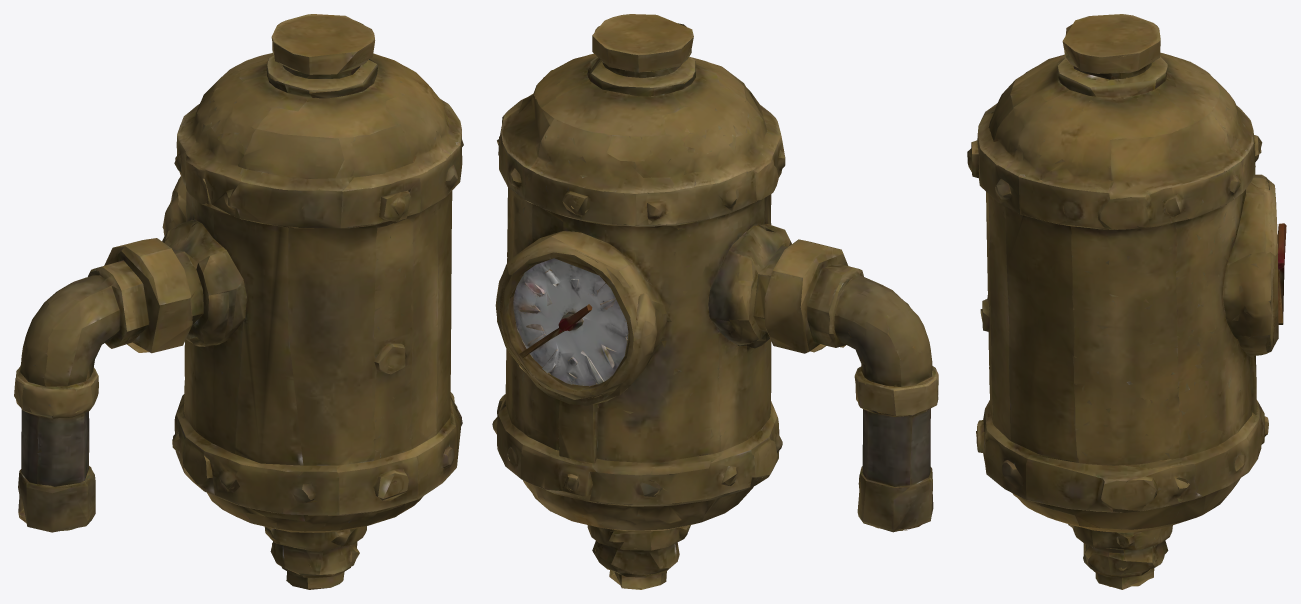
The picture shows the model from 3 angles, left to right: view 1: azimuth 30°, elevation 25°; view 2: azimuth 150°, elevation 25°; view 3: azimuth 270°, elevation 25°; orthographic projection.
Visible parts, largest first — view 1: geometry_0; view 2: geometry_0; view 3: geometry_0.
Boxes of the visible parts, bbox=[...] form: geometry_0: bbox=[14, 14, 463, 589]; geometry_0: bbox=[492, 14, 938, 589]; geometry_0: bbox=[967, 14, 1286, 589].
Bounding box in the file's own units: 0.2454 × 0.3 × 0.1596.
1 material, 1 textured.
